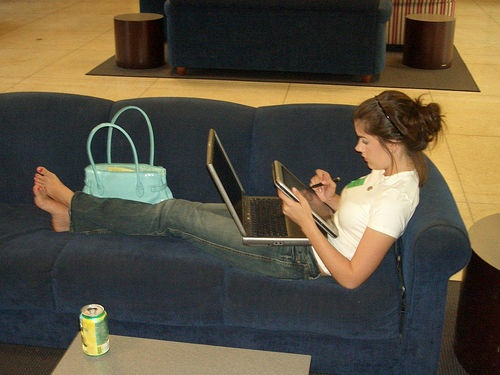head: (355, 93, 418, 170)
person: (30, 83, 447, 291)
